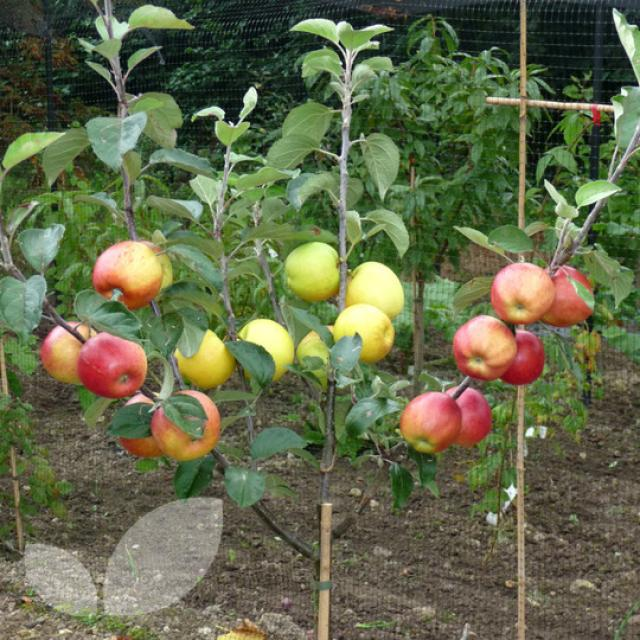100-_ripeness: (78, 334, 150, 399), (150, 390, 218, 458), (92, 239, 160, 305), (449, 311, 514, 378), (488, 258, 550, 325), (330, 306, 396, 367), (344, 255, 407, 318), (236, 318, 296, 384), (172, 321, 230, 387), (401, 389, 461, 452), (281, 240, 341, 302), (39, 322, 88, 384), (552, 265, 594, 329), (516, 329, 548, 385), (461, 388, 491, 442)
